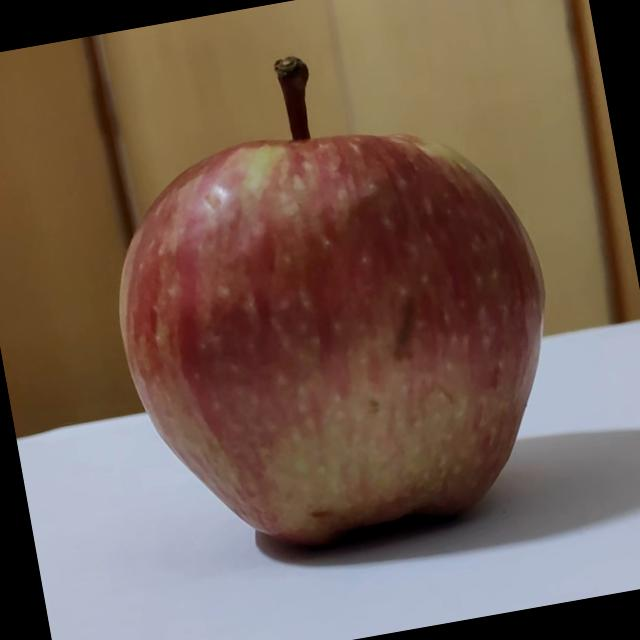apple: (73, 13, 590, 574)
